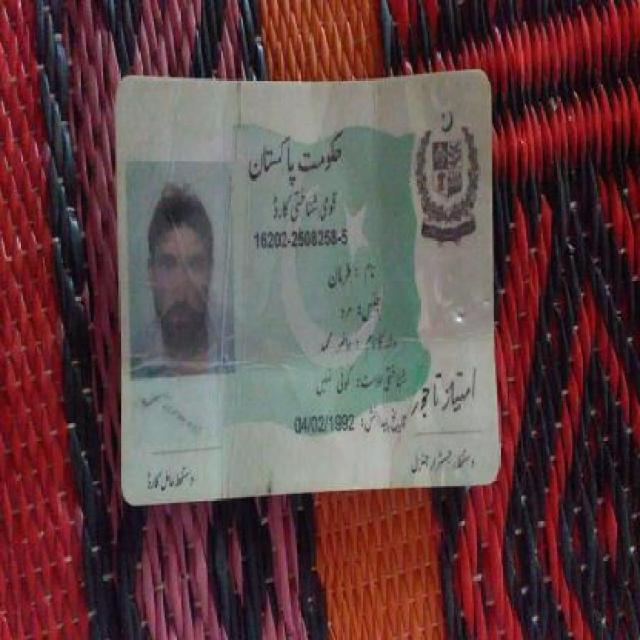Front: (103, 60, 506, 495)
